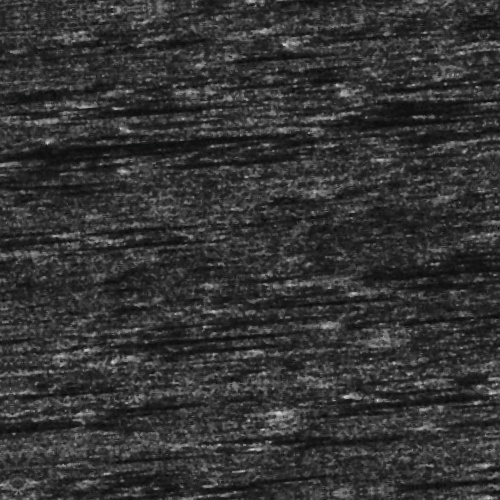object: (269, 279, 374, 286), (0, 128, 48, 141), (431, 150, 494, 159), (318, 114, 359, 125), (30, 446, 93, 451), (274, 410, 327, 415), (263, 443, 294, 448), (84, 330, 115, 333), (89, 99, 100, 104)
shadow: (0, 128, 331, 141), (338, 114, 474, 125), (321, 279, 500, 286), (301, 410, 432, 415), (279, 443, 408, 448), (99, 330, 262, 333), (62, 446, 141, 451), (462, 150, 500, 159), (95, 99, 135, 104)
